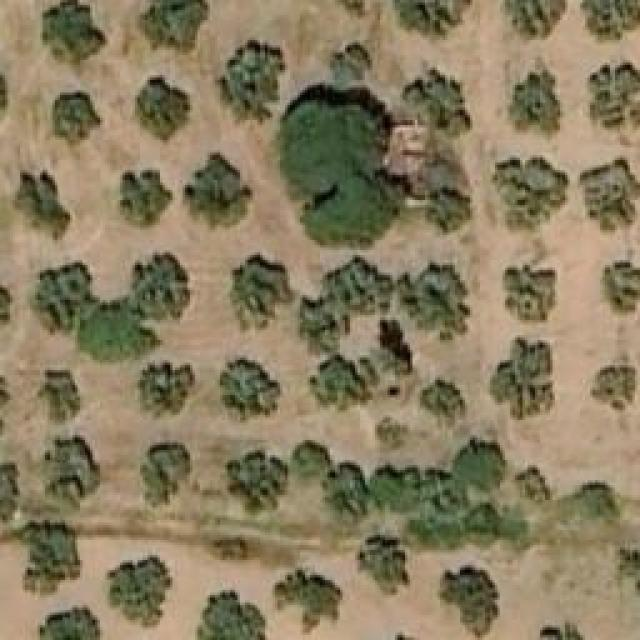Tree: (278, 85, 413, 248), (215, 40, 285, 125), (493, 155, 568, 233), (487, 338, 555, 421), (183, 152, 253, 230), (78, 300, 161, 363), (230, 252, 295, 330), (20, 520, 83, 595), (580, 152, 640, 230), (108, 555, 171, 628), (128, 250, 191, 323), (273, 570, 343, 633), (443, 563, 498, 638), (43, 0, 106, 65), (220, 360, 283, 423), (12, 170, 70, 238), (228, 450, 288, 515), (45, 438, 98, 511), (137, 0, 210, 52), (408, 268, 468, 331), (587, 62, 640, 132), (33, 262, 96, 320), (198, 590, 271, 640), (117, 170, 175, 230), (135, 78, 190, 141), (503, 265, 558, 325), (140, 443, 190, 508), (395, 0, 472, 42), (137, 363, 195, 418), (358, 535, 411, 595), (308, 353, 361, 413), (325, 265, 385, 318), (510, 72, 560, 130), (53, 90, 103, 145), (372, 465, 429, 513), (505, 0, 568, 40), (580, 0, 640, 42), (322, 468, 367, 520), (452, 442, 500, 490), (38, 370, 81, 423), (420, 378, 465, 428), (600, 263, 640, 316), (590, 368, 635, 413), (38, 610, 101, 640), (295, 305, 335, 350), (325, 47, 370, 85), (615, 543, 640, 598), (515, 467, 550, 505), (435, 188, 463, 231), (378, 418, 411, 453), (297, 445, 325, 483), (0, 463, 15, 518)
